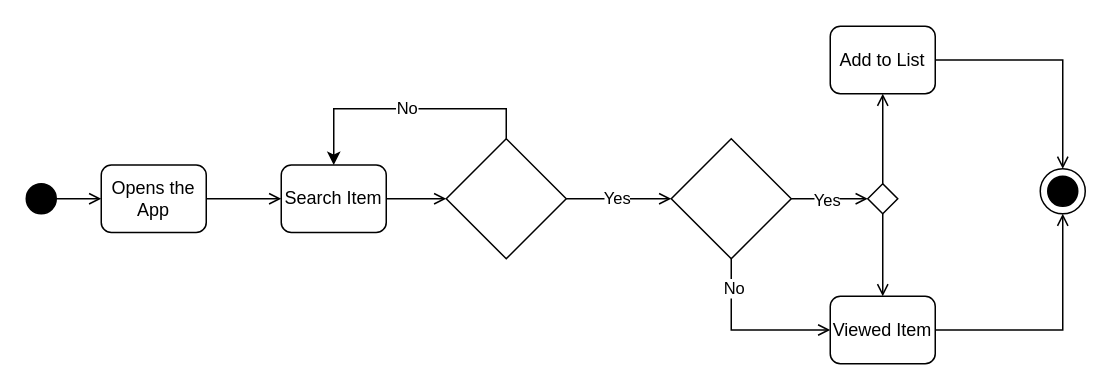
Some shapes in this 1112 by 390 pixel diagram are drawn without their labels. Each missing label, with the centre of its shape:
"Found" belongs at point 505,198.
"Is logged In" belongs at point 730,198.
